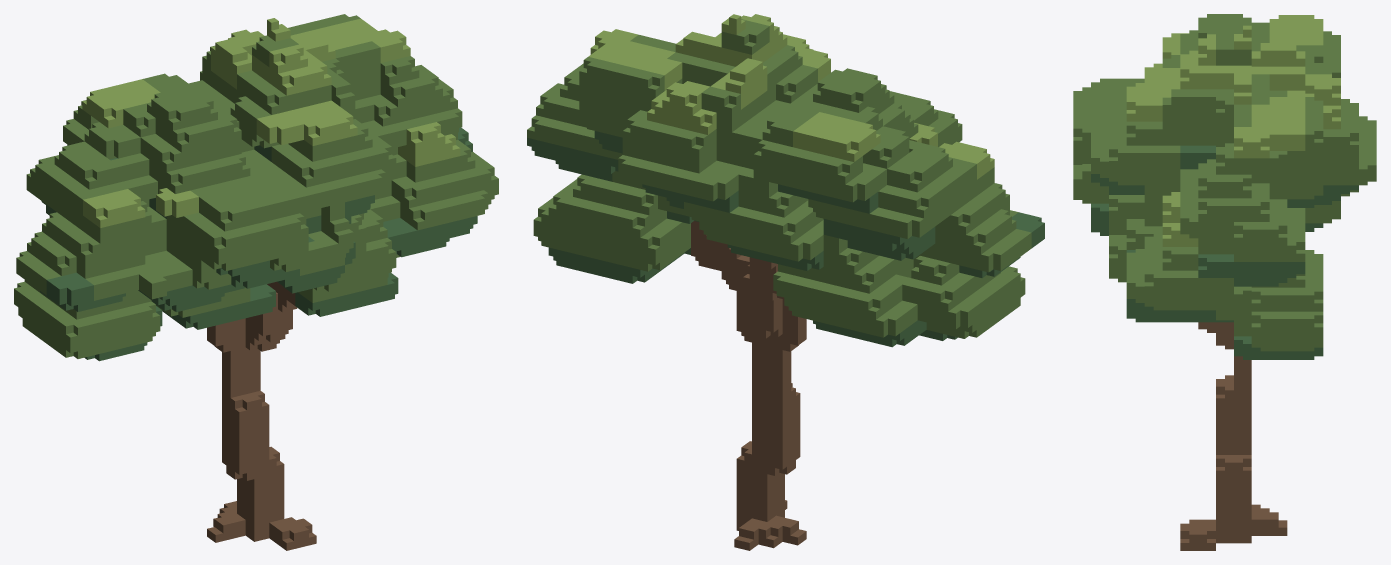
The model's file is hearthvale_tree_orchard_compact.obj.
3 views of the same model, side by side, from view 1: azimuth 30°, elevation 25°; view 2: azimuth 150°, elevation 25°; view 3: azimuth 270°, elevation 25° (orthographic). The views are drawn at different scales.
Visible parts, largest first — view 1: palette_2, palette_4, palette_1, palette_3; view 2: palette_2, palette_1, palette_4, palette_3; view 3: palette_2, palette_4, palette_1, palette_3.
Boxes of the visible parts, x1,y1,x2,y2 form: palette_2: (14, 14, 498, 358); palette_4: (82, 18, 460, 227); palette_1: (207, 281, 316, 550); palette_3: (40, 127, 477, 361); palette_2: (527, 19, 1031, 338); palette_1: (691, 221, 806, 550); palette_4: (588, 14, 994, 179); palette_3: (527, 131, 1044, 347); palette_2: (1073, 14, 1376, 351); palette_4: (1126, 15, 1340, 246); palette_1: (1180, 322, 1287, 550); palette_3: (1091, 145, 1358, 359).
Bounding box in the file's own units: 3.62 × 4 × 2.12.
